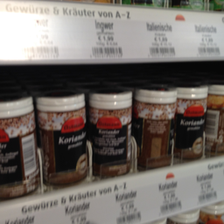spices: (35, 90, 88, 184), (1, 95, 40, 198), (89, 87, 133, 178), (134, 84, 177, 170), (171, 82, 209, 159)
